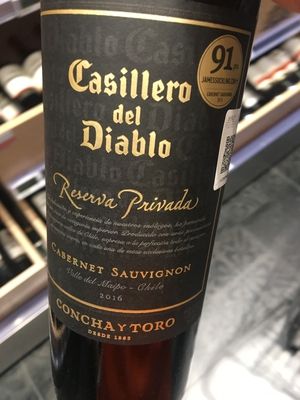casillero del diablo reserva privada cabernet sauvignon: (33, 6, 261, 400)
